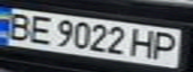0: (69, 19, 93, 51)
2: (87, 20, 112, 54), (106, 24, 130, 56)
9: (51, 17, 75, 48)
B: (0, 9, 36, 42)
E: (24, 12, 57, 45)
H: (127, 26, 160, 60)
P: (148, 29, 184, 61)
